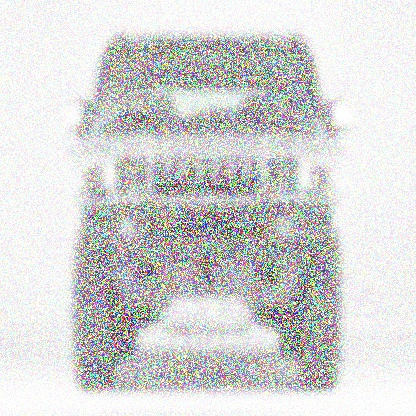Vehicle: (67, 34, 354, 398)
